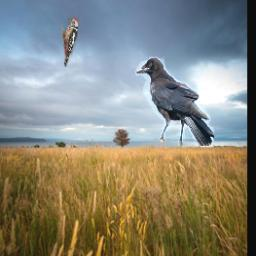Crow: (136, 57, 215, 146)
Woodpecker: (62, 18, 79, 67)
